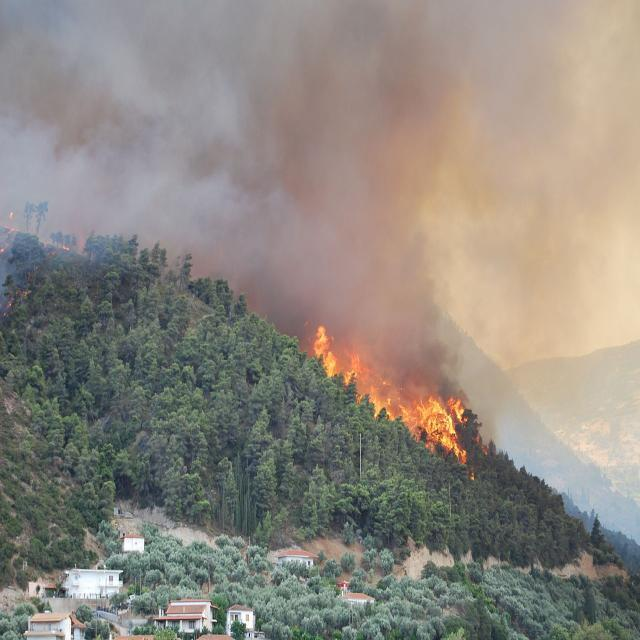Fire: (396, 396, 468, 456), (314, 327, 362, 385)
Smoke: (14, 0, 639, 217)
